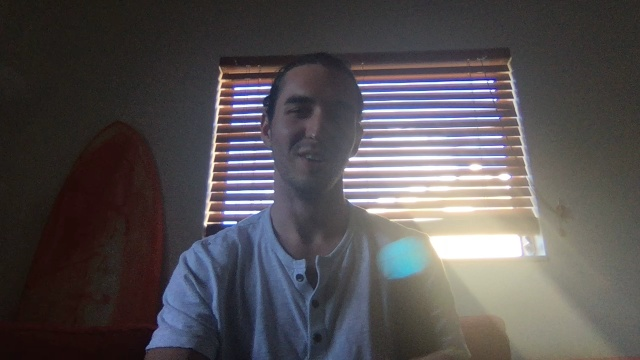wand: (377, 236, 428, 280)
